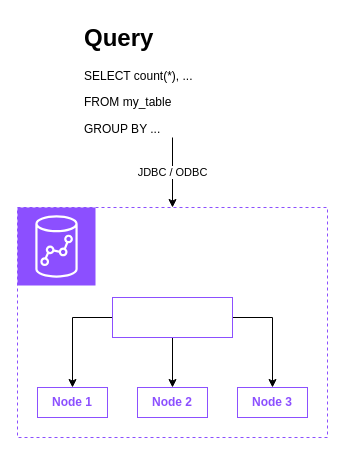
The diagram is 345 pixels wide and 455 high, and some of its shapes have lost their labels. The box of each missing label's shape, as (x1, y1, x2, y2) in pixels:
Amazon Redshift Cluster: (16, 206, 328, 438)
Leader Node: (112, 296, 232, 338)
